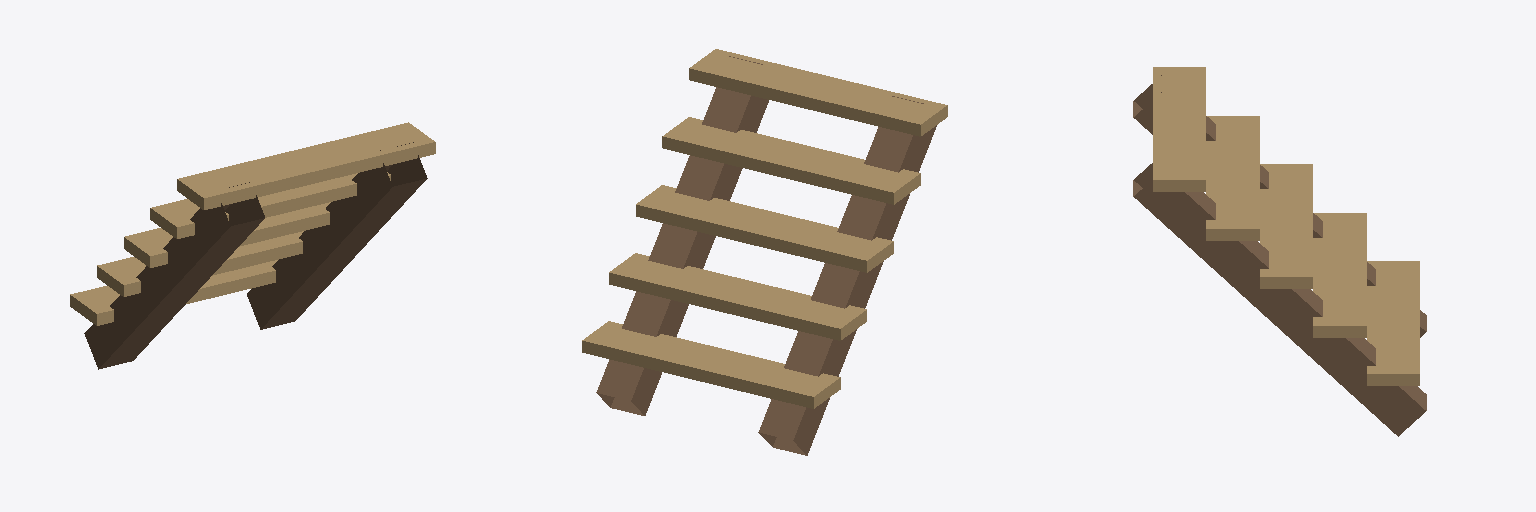
The model's file is Beach_Prop_Docks_Steps.obj.
The picture shows the model from 3 angles: view 1: azimuth 30°, elevation 25°; view 2: azimuth 150°, elevation 25°; view 3: azimuth 270°, elevation 25°; orthographic projection.
Parts seen in each view (by area): view 1: object3, object6, object1, object5, object4, object7, object2; view 2: object3, object6, object1, object4, object5, object7, object2; view 3: object6, object1, object2, object5, object4, object7, object3.
Boxes of the visible parts, <box> form: object3: <box>84,182,264,369</box>; object6: <box>247,142,427,329</box>; object1: <box>177,122,435,209</box>; object5: <box>150,172,390,238</box>; object4: <box>70,260,277,325</box>; object7: <box>124,202,330,267</box>; object2: <box>97,231,303,296</box>; object3: <box>758,96,936,455</box>; object6: <box>596,56,768,415</box>; object1: <box>689,49,947,136</box>; object4: <box>582,321,840,408</box>; object5: <box>662,117,920,204</box>; object7: <box>636,185,893,272</box>; object2: <box>609,253,866,340</box>; object6: <box>1133,163,1426,436</box>; object1: <box>1153,67,1205,191</box>; object2: <box>1313,213,1366,337</box>; object5: <box>1206,116,1259,240</box>; object4: <box>1367,261,1419,385</box>; object7: <box>1260,164,1312,288</box>; object3: <box>1133,75,1426,337</box>.
Bounding box in the file's own units: 1 × 1.1 × 1.1.